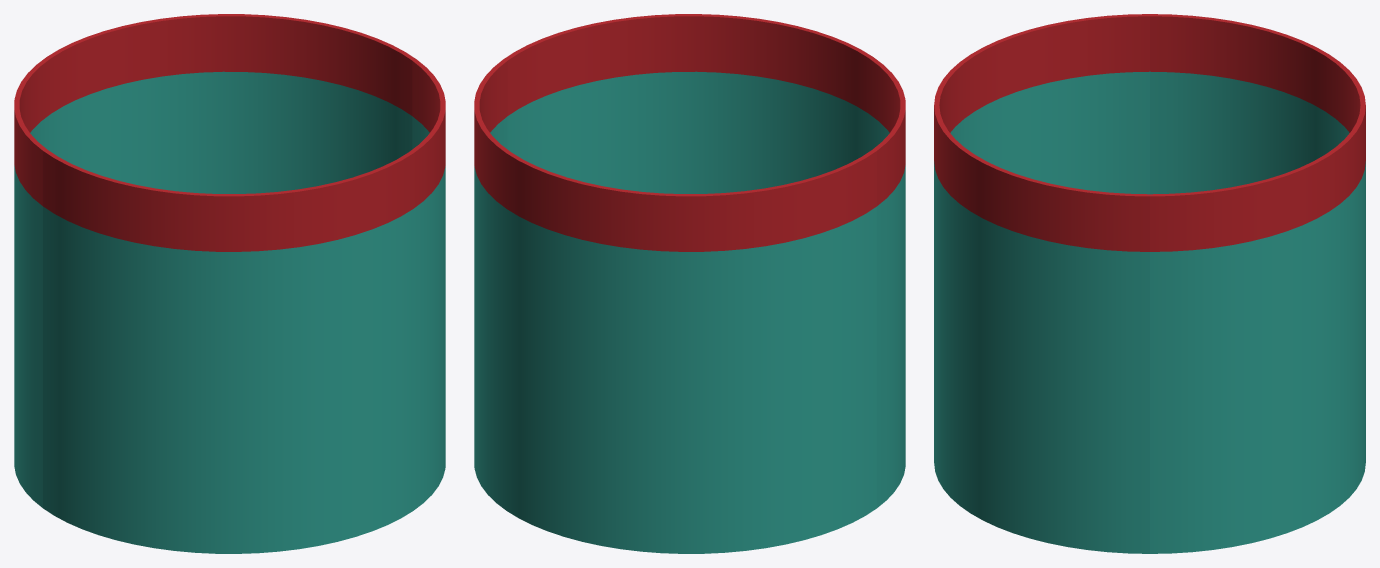
File: flotation_cell_pressure.glb
3 renders of one model, left to right at view 1: azimuth 30°, elevation 25°; view 2: azimuth 150°, elevation 25°; view 3: azimuth 270°, elevation 25°, orthographic.
Parts seen in each view (by area): view 1: hz__front, hz__back; view 2: hz__back, hz__front; view 3: hz__back, hz__front.
Part boxes in pixels (x1,y1,x2,y2): hz__front: (43,59,445,553); hz__back: (14,14,416,507); hz__back: (474,59,876,553); hz__front: (503,14,905,507); hz__back: (1150,14,1365,553); hz__front: (934,14,1149,553).
Bounding box in the file's own units: 1.62 × 1.48 × 1.62.
